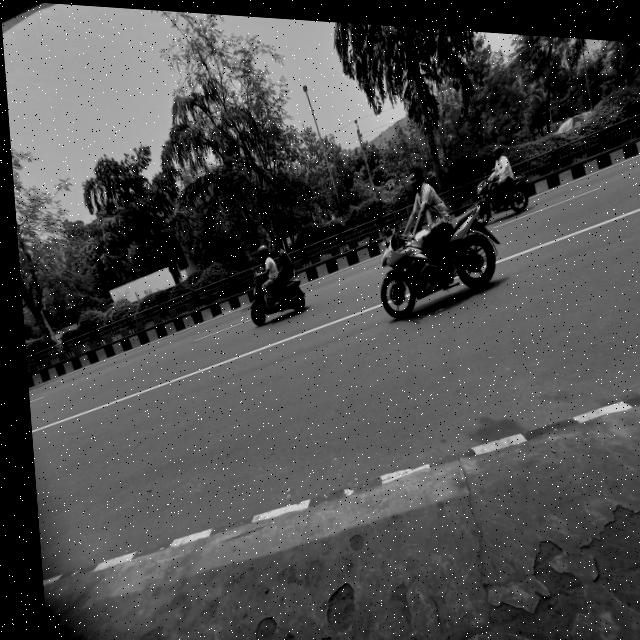bike: (347, 215, 499, 319), (238, 264, 317, 337), (467, 173, 532, 215)
